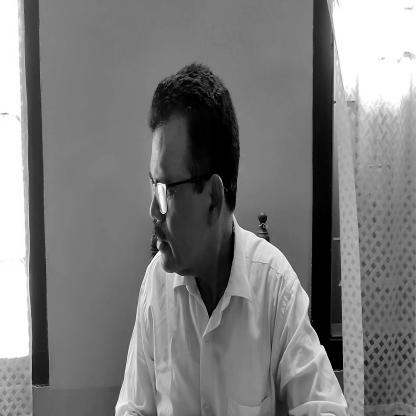Distracted: (150, 81, 243, 274)
